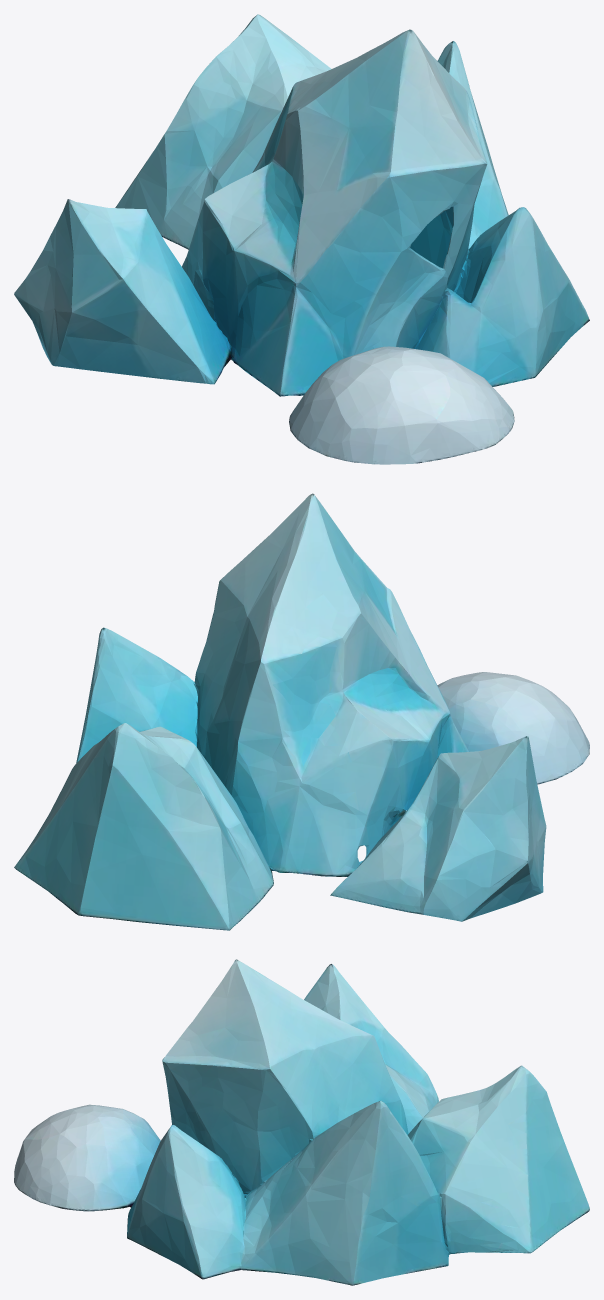
File: snow_crystal.glb
3 views of the same model, one above another, from view 1: azimuth 30°, elevation 25°; view 2: azimuth 150°, elevation 25°; view 3: azimuth 270°, elevation 25° (orthographic). The views are drawn at different scales.
Visible parts, largest first — view 1: world; view 2: world; view 3: world.
Boxes of the visible parts, x1,y1,x2,y2 form: world: [14, 14, 589, 464]; world: [14, 493, 589, 930]; world: [14, 959, 589, 1285].
Size of the model in its own units: 0.796 by 0.4911 by 0.9997.
Materials: 1 (1 with a texture image).
